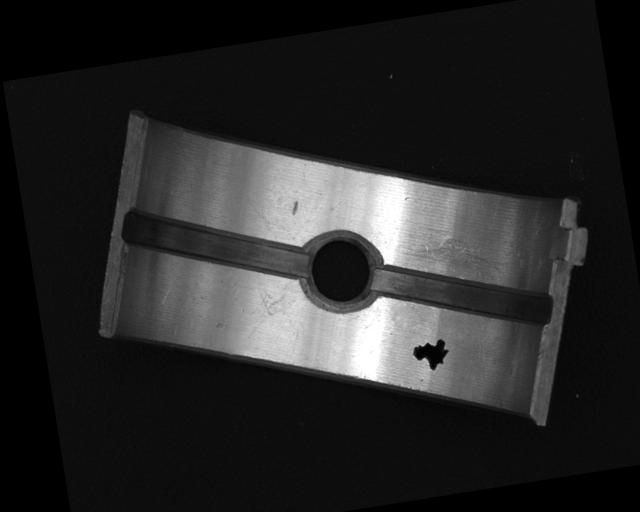blot: (410, 337, 453, 374)
bruise: (290, 199, 301, 217)
gap: (121, 186, 311, 303), (369, 244, 555, 350)
hole: (300, 231, 383, 318)
scratch: (398, 225, 513, 295)
